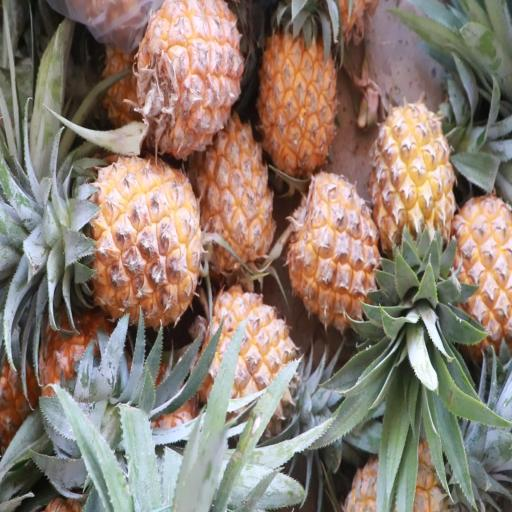Pineapple - v8 v1: (35, 156, 206, 334), (131, 1, 246, 164), (196, 282, 310, 440), (284, 168, 387, 338), (368, 100, 457, 296), (256, 0, 340, 184), (197, 102, 277, 279), (449, 188, 512, 376)
